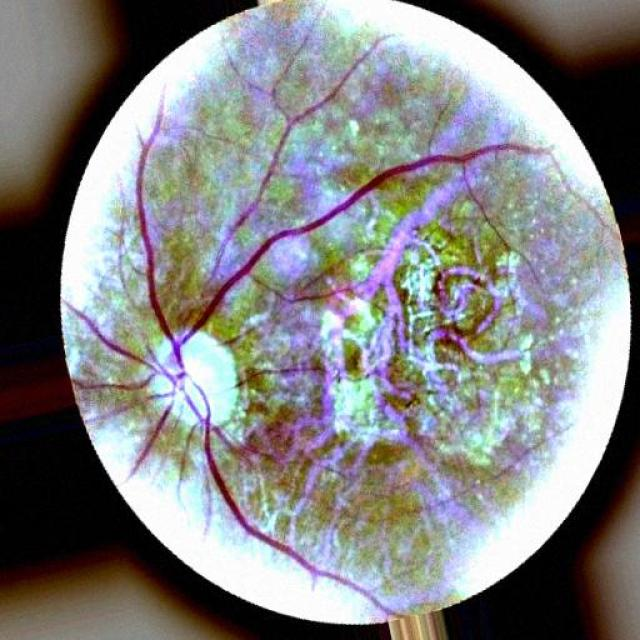Nerves: (61, 91, 544, 616), (235, 38, 382, 229), (129, 400, 172, 476)
Optic Disk: (150, 331, 238, 426)
